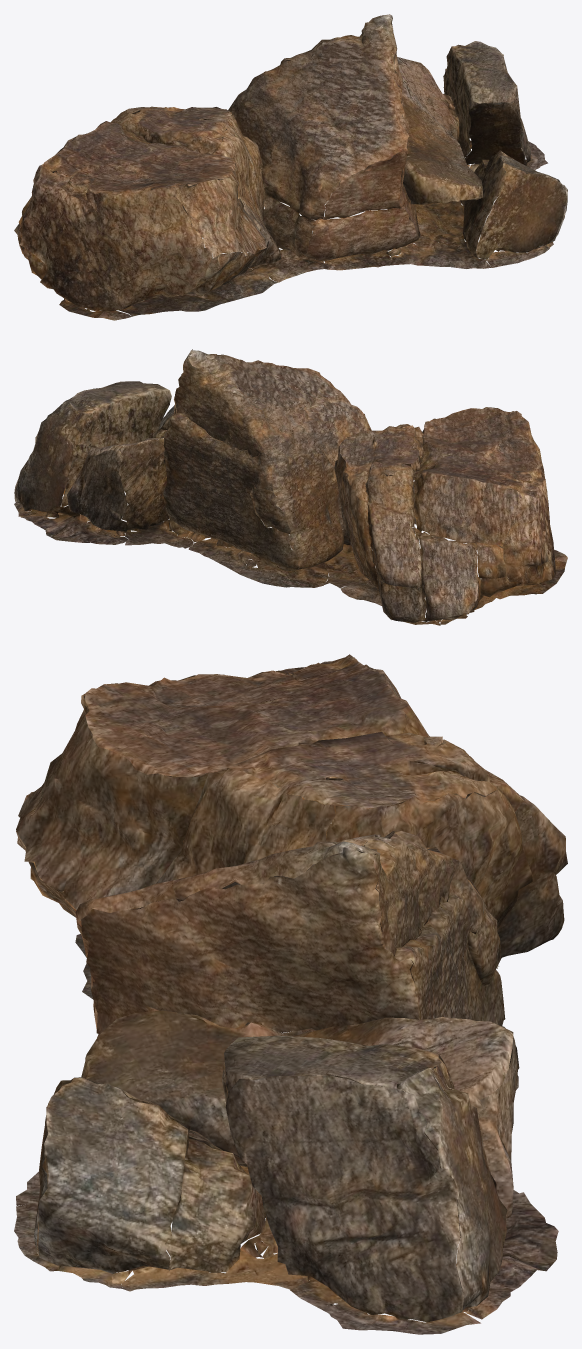
File: ph_namaqualand_boulder_02.glb
3 views of the same model, one above another, from view 1: azimuth 30°, elevation 25°; view 2: azimuth 150°, elevation 25°; view 3: azimuth 270°, elevation 25° (orthographic). The views are drawn at different scales.
Parts seen in each view (by area): view 1: boulder_02; view 2: boulder_02; view 3: boulder_02.
Boxes of the visible parts, x1=… form: boulder_02: x1=14, y1=14, x2=567, y2=320; boulder_02: x1=14, y1=349, x2=567, y2=625; boulder_02: x1=14, y1=654, x2=567, y2=1334.
Bounding box in the file's own units: 2.53 × 0.8801 × 1.23.
1 material, 1 textured.
